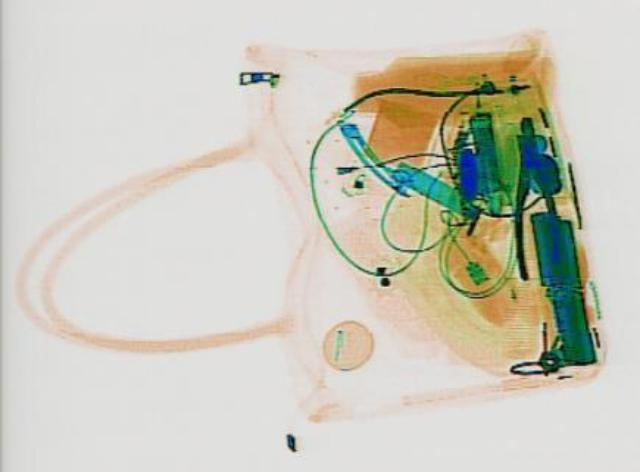Pliers: (501, 114, 561, 277)
